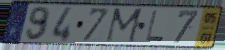4: (50, 5, 72, 43)
7: (83, 7, 112, 44), (172, 9, 201, 44)
9: (23, 5, 53, 42)
L: (144, 10, 165, 43)
M: (104, 7, 146, 45)
